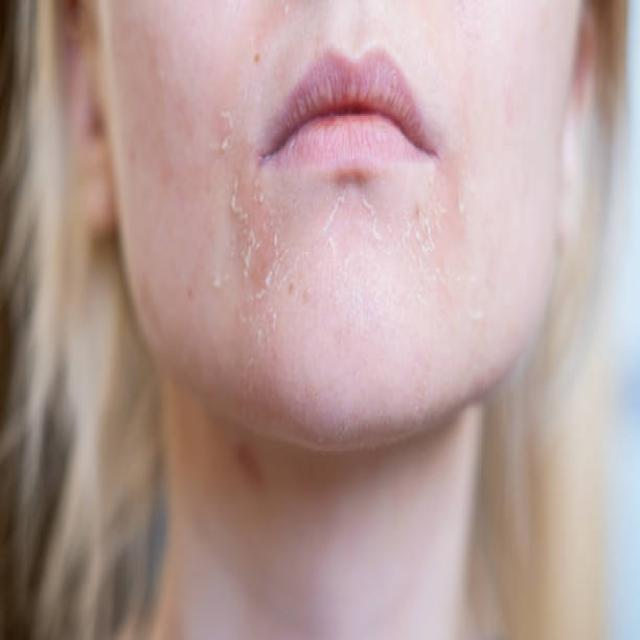flakiness: (205, 110, 456, 370)
